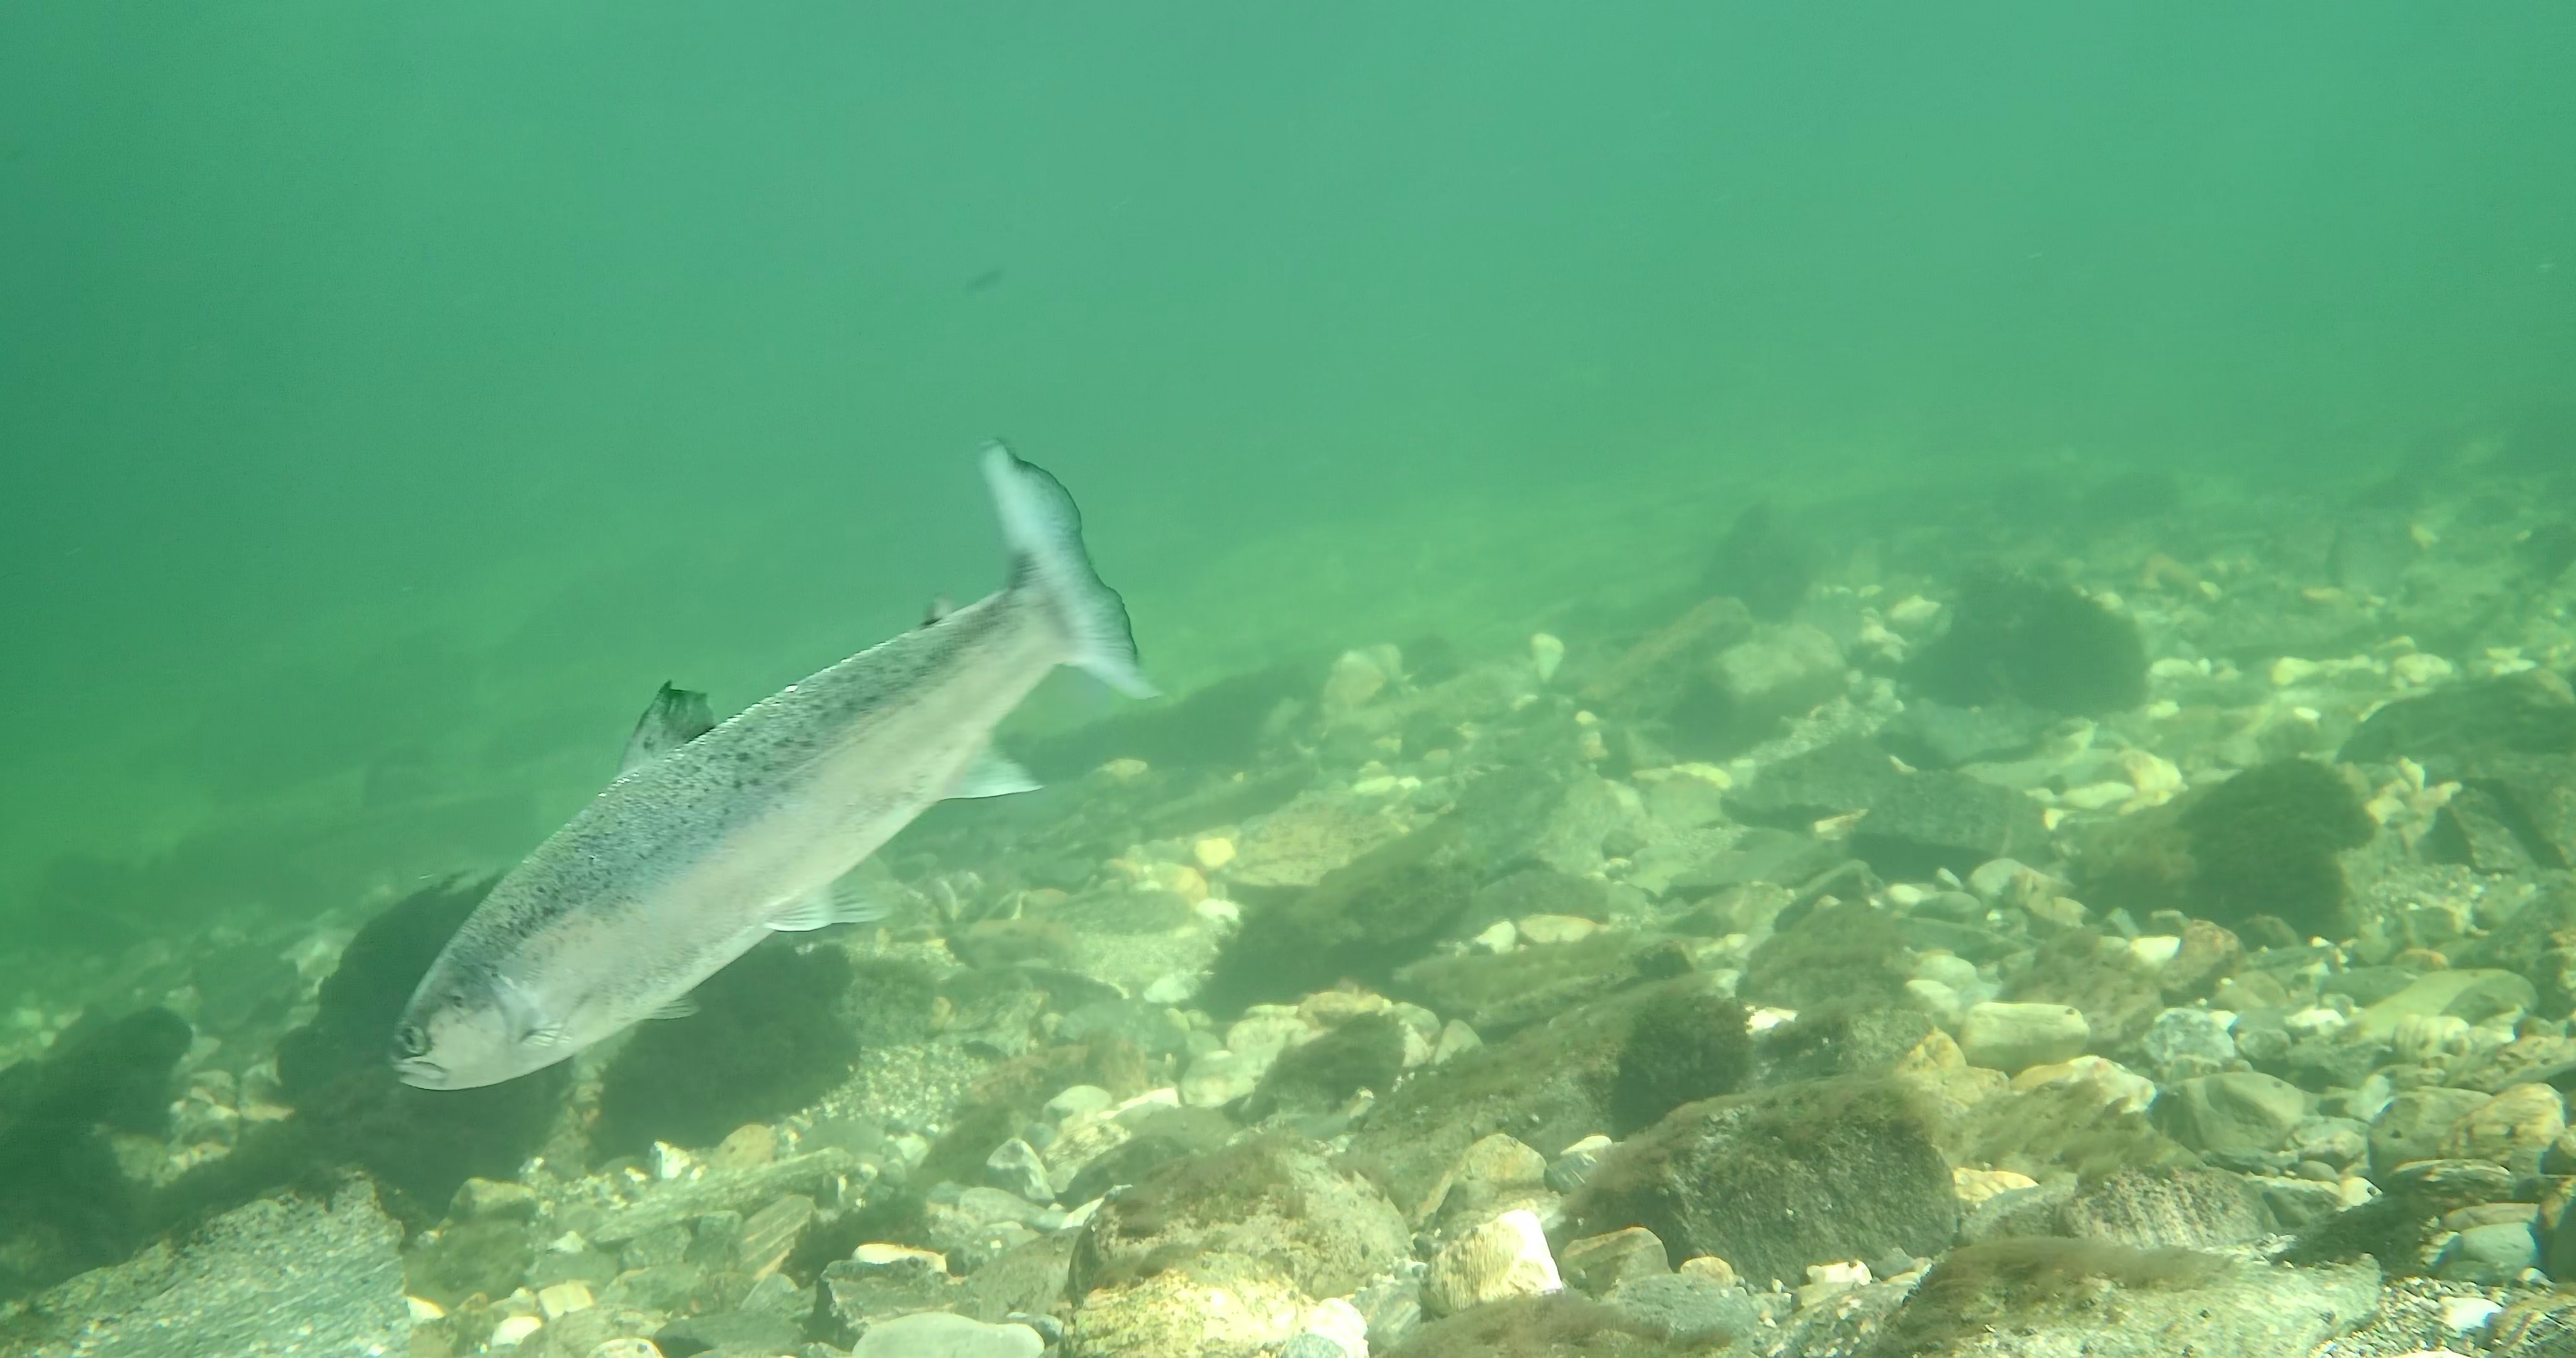salmon: (387, 436, 1167, 1094)
